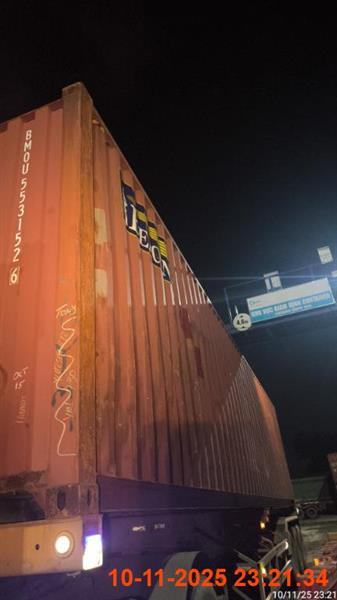broken: (0, 82, 306, 599)
